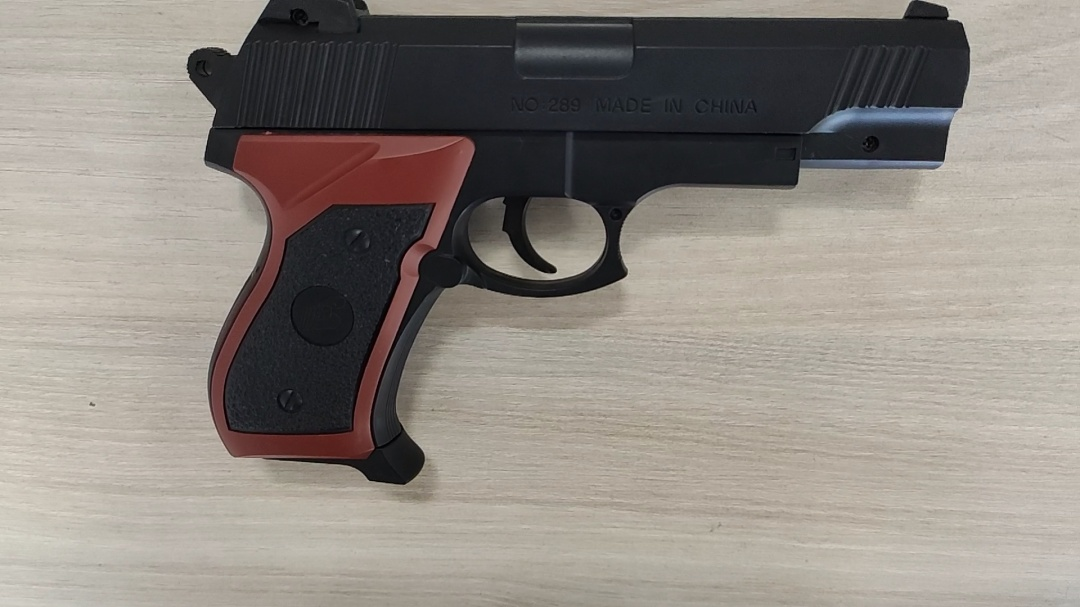gun: (497, 116, 674, 240)
